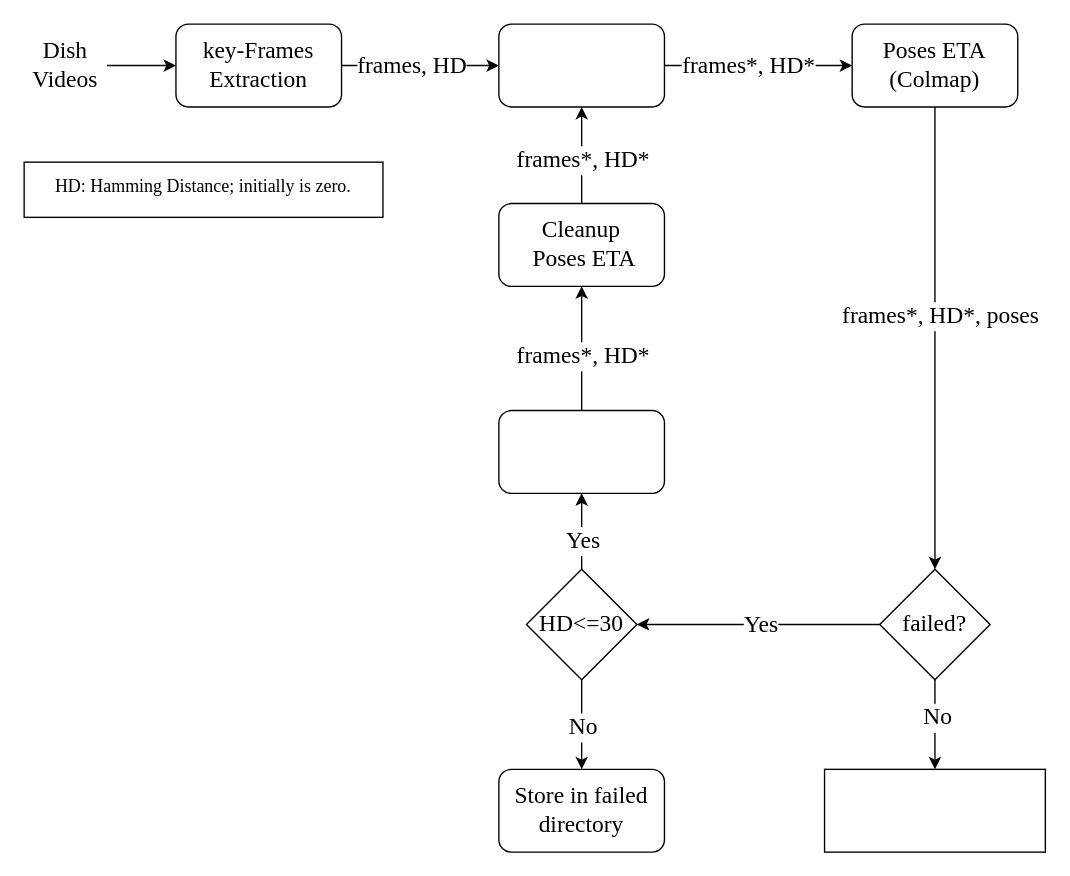
Image size: 1070x876. Some labels were removed from this diagram. The box of each missing label's shape, as (x1, y1, x2, y2) in pixels:
increase Hamming Distance by 2: (497, 409, 664, 493)
near-image similarity Reduction: (497, 23, 664, 107)
Store info in level_$HD/dish_xyz directory: (823, 768, 1045, 852)
